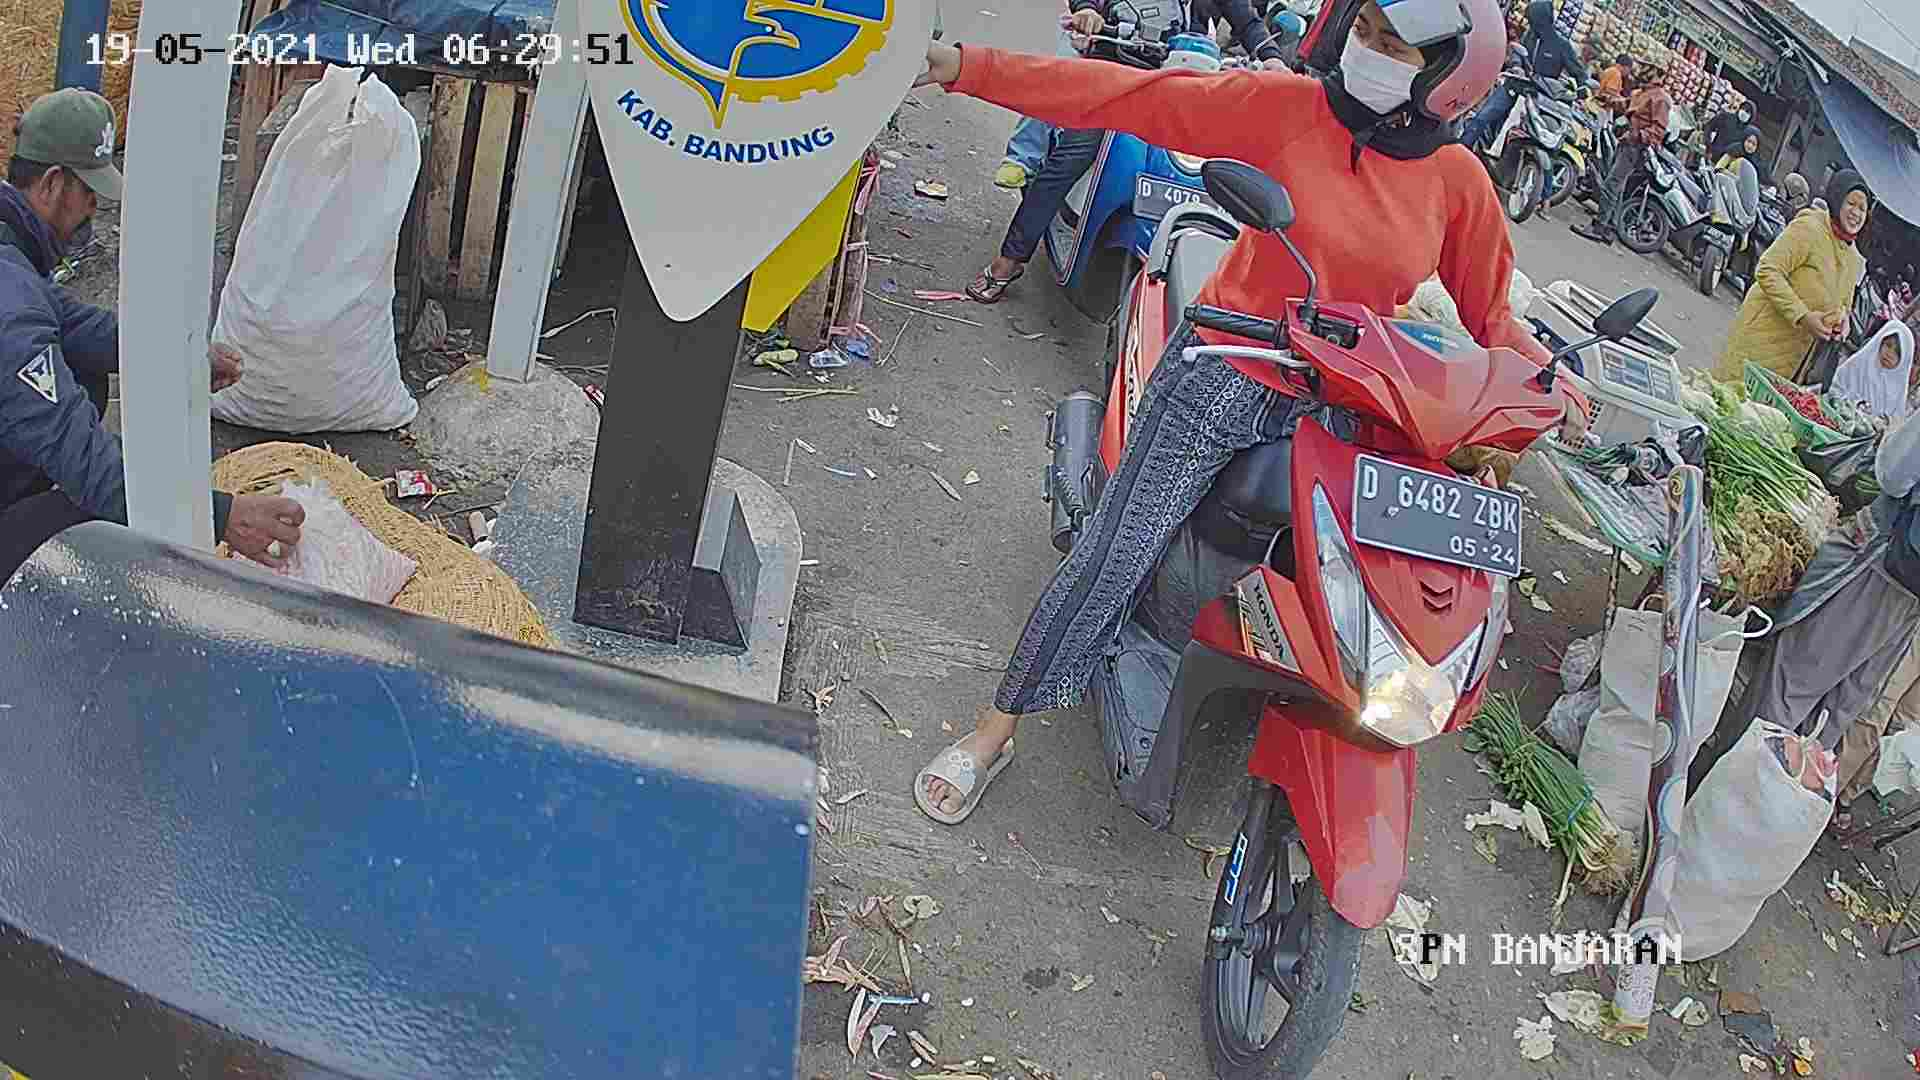motor: (1058, 210, 1530, 1080)
